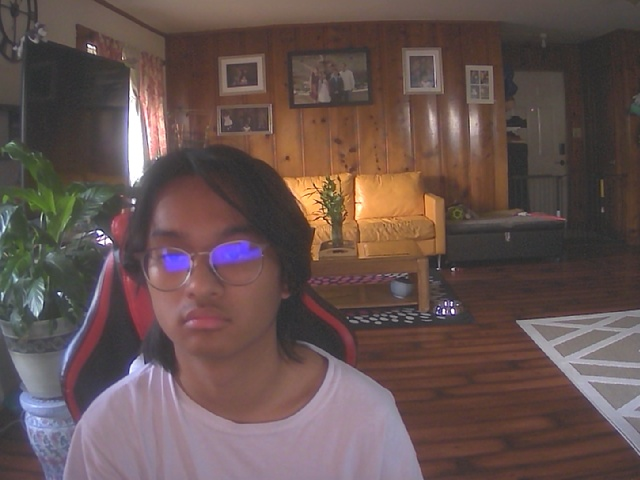neutral: (130, 149, 302, 366)
